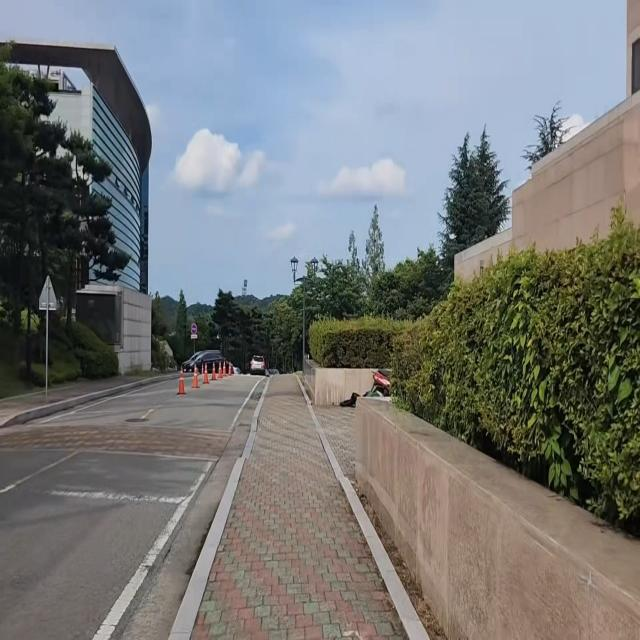obstacle: (247, 350, 270, 375)
road: (0, 373, 268, 640)
sidewalk: (173, 367, 438, 640), (0, 373, 168, 421)
